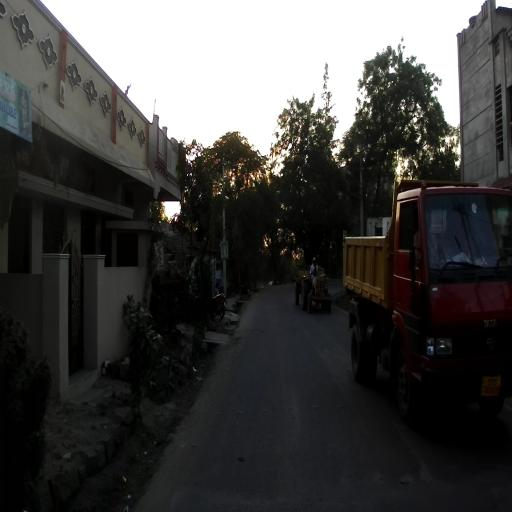street_light_0: (346, 169, 363, 201)
